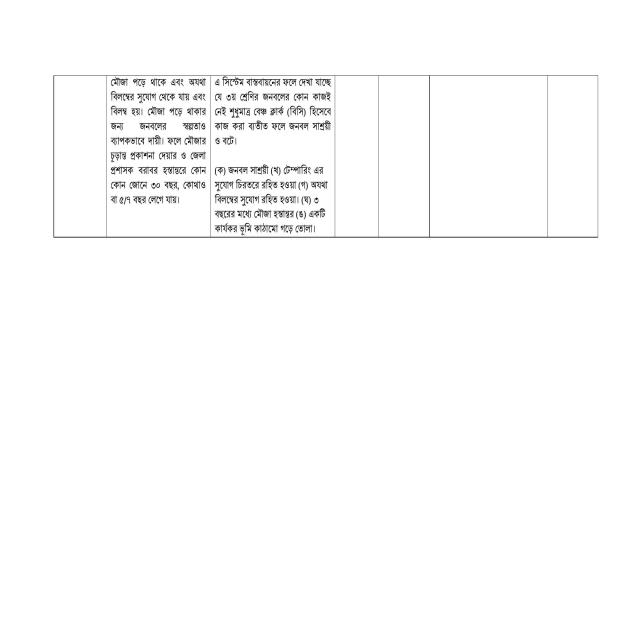table: (53, 74, 599, 238)
text: (109, 76, 207, 207), (214, 163, 329, 236), (214, 76, 332, 147)
